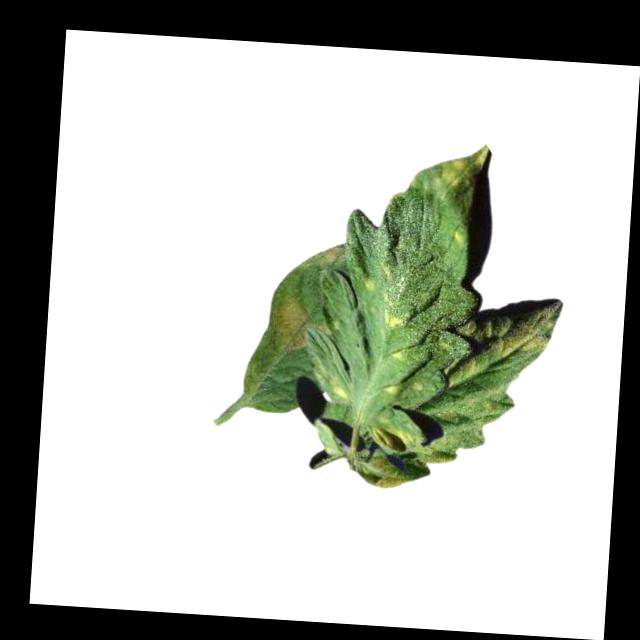Leaf_Mold: (480, 295, 563, 360), (268, 297, 316, 352), (432, 151, 466, 192), (368, 422, 412, 453), (368, 456, 409, 489), (379, 308, 405, 332), (382, 378, 395, 393)
